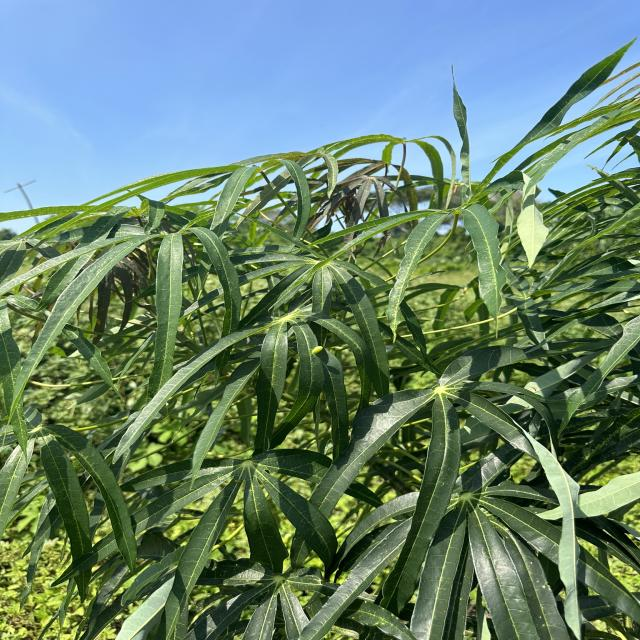Mosca: (307, 344, 329, 356)
